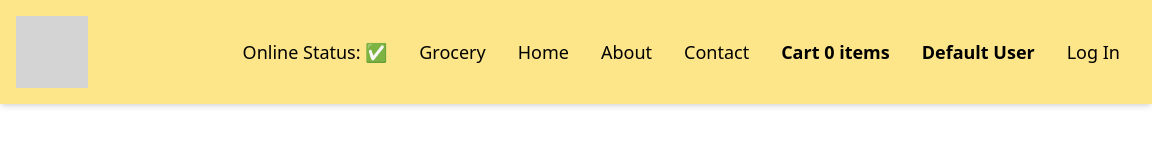
Scenario: Header component › Should change login button to logout on click
Click the button "Log In". click: (1093, 52)
box: x1=1051 y1=38 x2=1136 y2=66
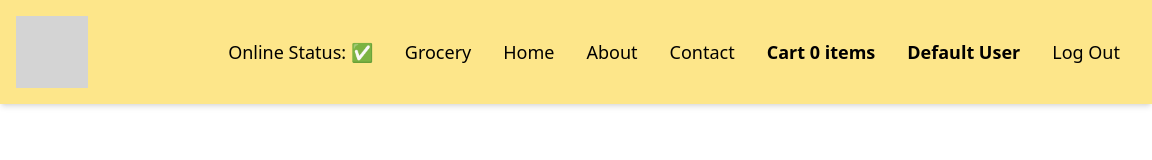
Expected: the button "Log Out" is shown, x1=1036 y1=38 x2=1136 y2=66
